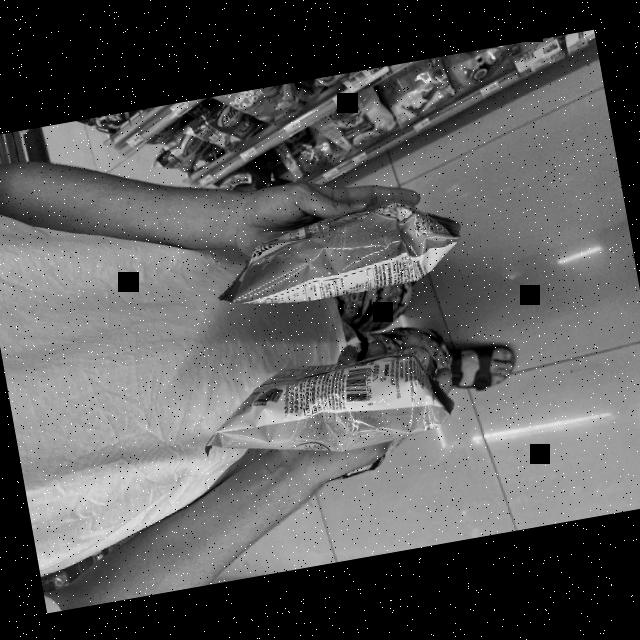snack_bag: (173, 316, 481, 498), (203, 171, 472, 327)
